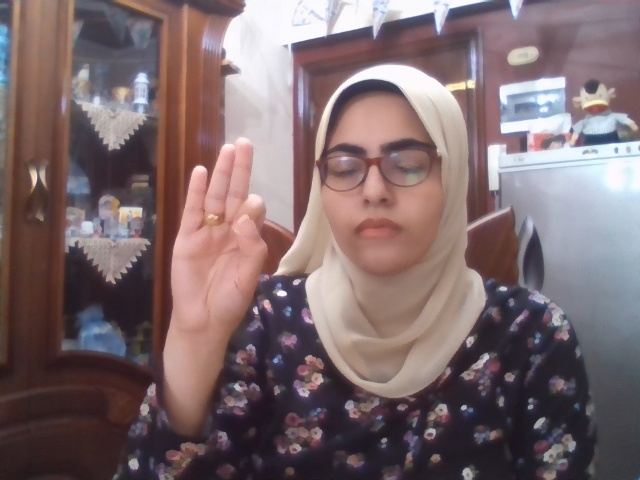F: (170, 137, 268, 337)
